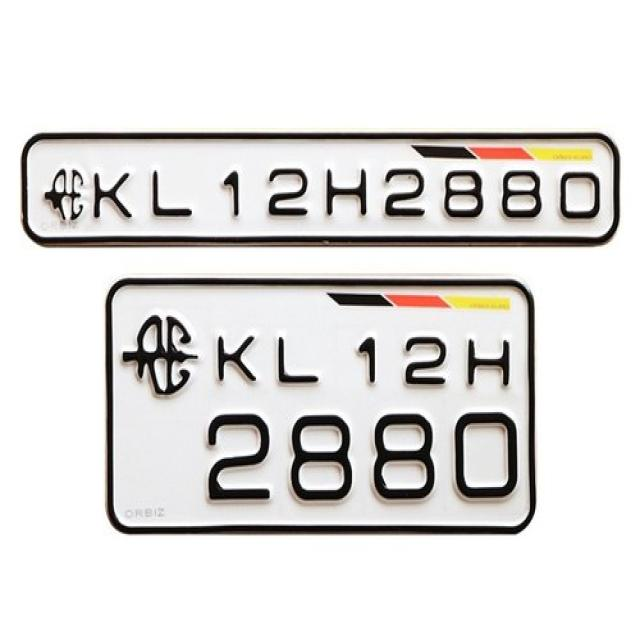plate: (105, 272, 539, 543), (15, 128, 626, 251)
